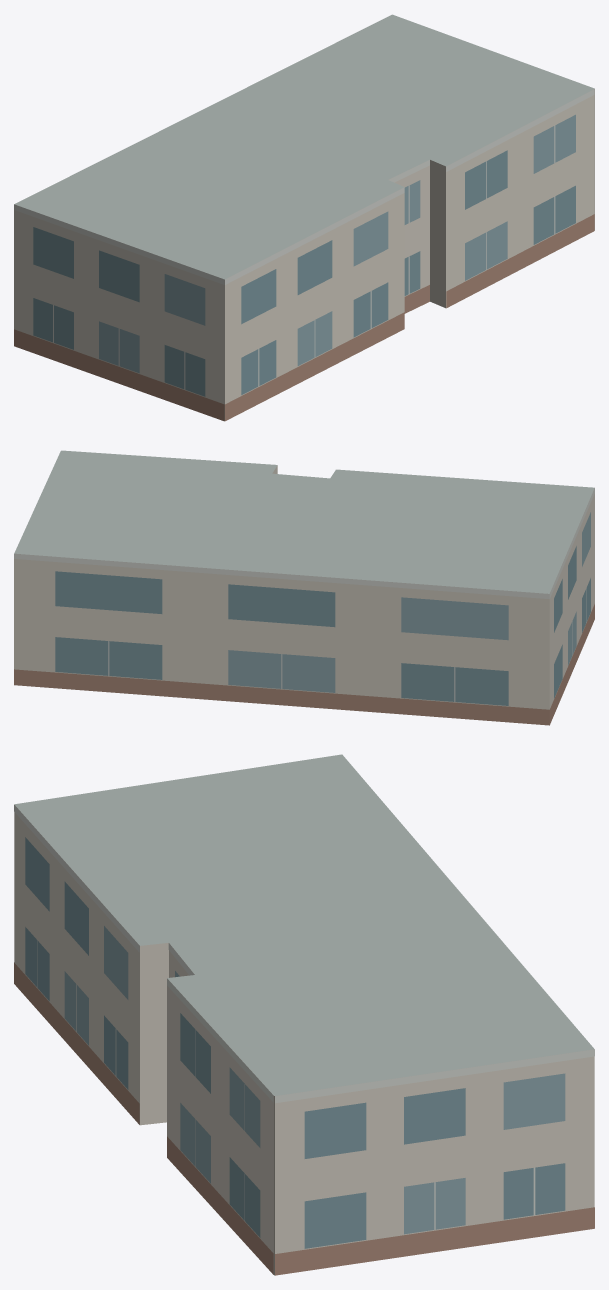
File: survey-upis-32499935.glb
The picture shows the model from 3 angles, top to bottom: view 1: azimuth 30°, elevation 25°; view 2: azimuth 150°, elevation 25°; view 3: azimuth 270°, elevation 25°; orthographic projection. The views are drawn at different scales.
Visible parts, largest first — view 1: survey-upis-32499935.tmp; view 2: survey-upis-32499935.tmp; view 3: survey-upis-32499935.tmp.
Boxes of the visible parts, <box> form: survey-upis-32499935.tmp: <box>14,14,594,421</box>; survey-upis-32499935.tmp: <box>14,450,594,725</box>; survey-upis-32499935.tmp: <box>14,754,594,1275</box>.
Bounding box in the file's own units: 24.93 × 6.1 × 17.9.
